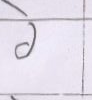e_matra: (0, 0, 31, 17)
